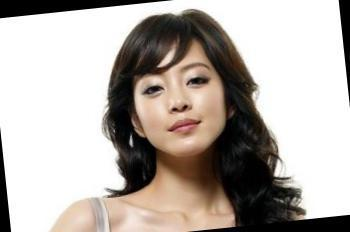Sober: (133, 51, 223, 147)
